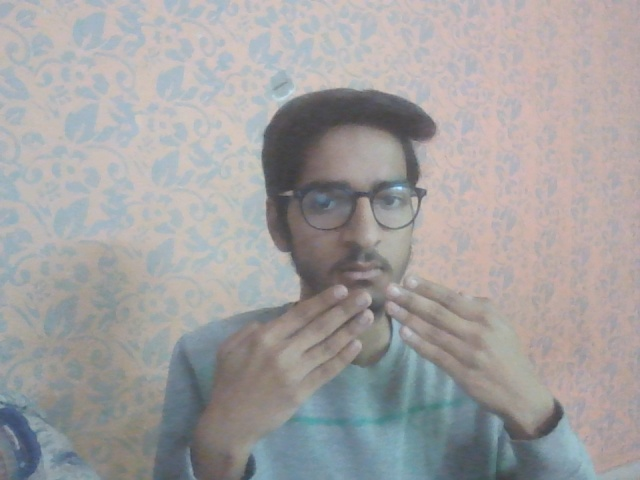ThankYou: (193, 274, 552, 442)
